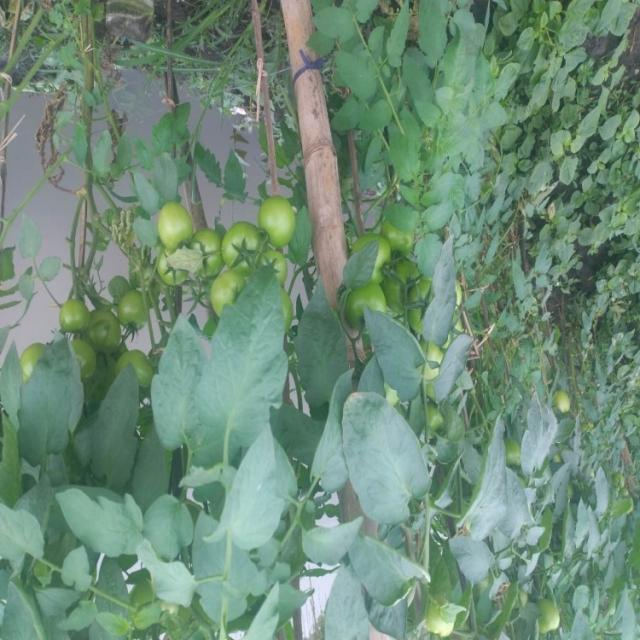tomato: (338, 273, 403, 347), (259, 191, 315, 249), (112, 288, 167, 347), (158, 195, 205, 260), (355, 230, 403, 291), (196, 224, 241, 289), (204, 284, 264, 332), (227, 210, 272, 273), (114, 340, 163, 387), (47, 297, 91, 349), (418, 599, 460, 640), (88, 311, 118, 359), (537, 607, 572, 635), (554, 387, 576, 411)
